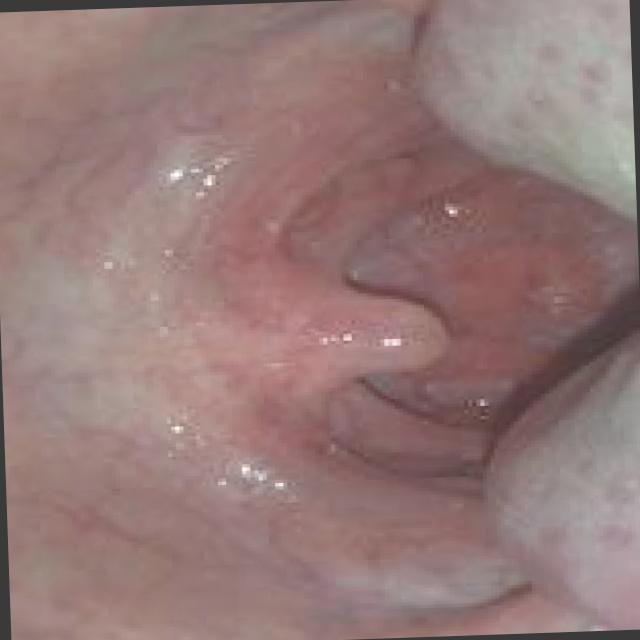Non Pharyngitis: (22, 205, 253, 454), (282, 434, 550, 638), (228, 0, 492, 123)
